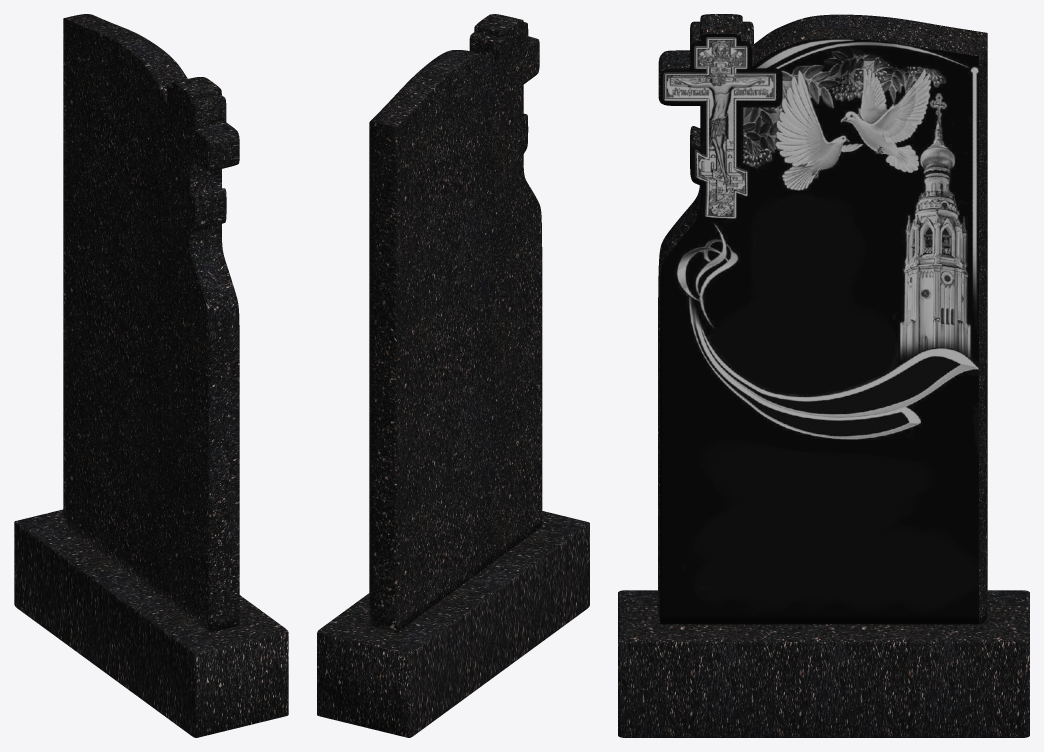
The model's file is Памятник Крест Голубь [granite_1_orthodox] (80).glb.
3 views of the same model, side by side, from view 1: azimuth 30°, elevation 25°; view 2: azimuth 150°, elevation 25°; view 3: azimuth 270°, elevation 25° (orthographic). The views are drawn at different scales.
Parts seen in each view (by area): view 1: Plane, Куб.004; view 2: Plane, Куб.004; view 3: Plane, Куб.004.
Boxes of the visible parts, left/top/right/bottom form: Plane: left=63, top=14, right=239, bottom=632; Куб.004: left=14, top=509, right=288, bottom=737; Plane: left=369, top=14, right=542, bottom=632; Куб.004: left=317, top=511, right=589, bottom=737; Plane: left=658, top=14, right=987, bottom=624; Куб.004: left=618, top=590, right=1029, bottom=737.
Bounding box in the file's own units: 0.15 × 0.9241 × 0.5.
Materials: 3 (3 with a texture image).
